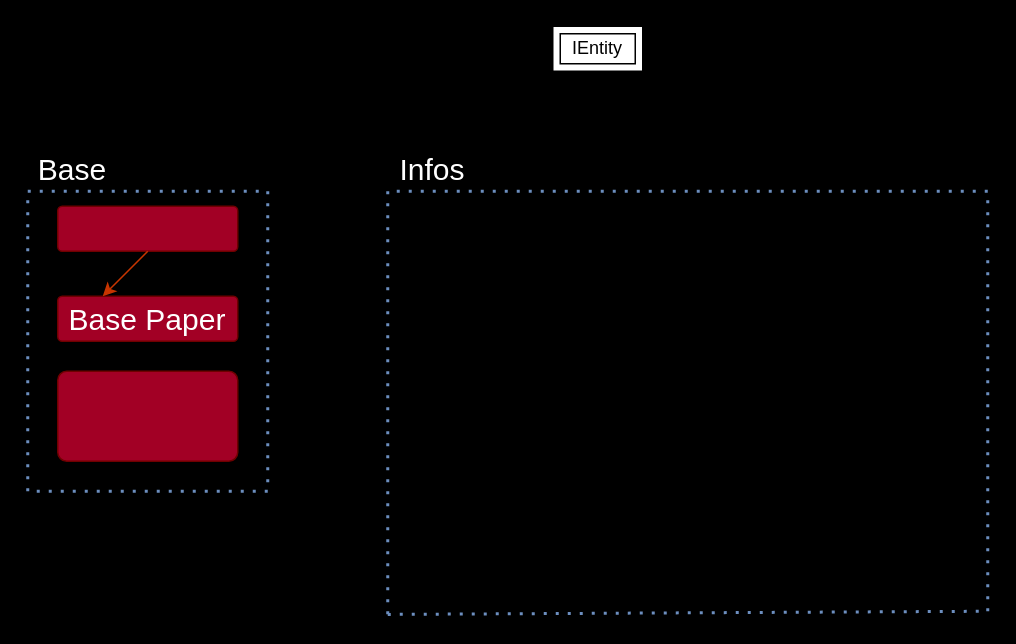
Some shapes in this 1016 by 644 pixel diagram are drawn without their labels. Each missing label, with the centre of its shape:
"First Page Person Base" goes at [147,415].
"MaterialBase" goes at [147,228].
